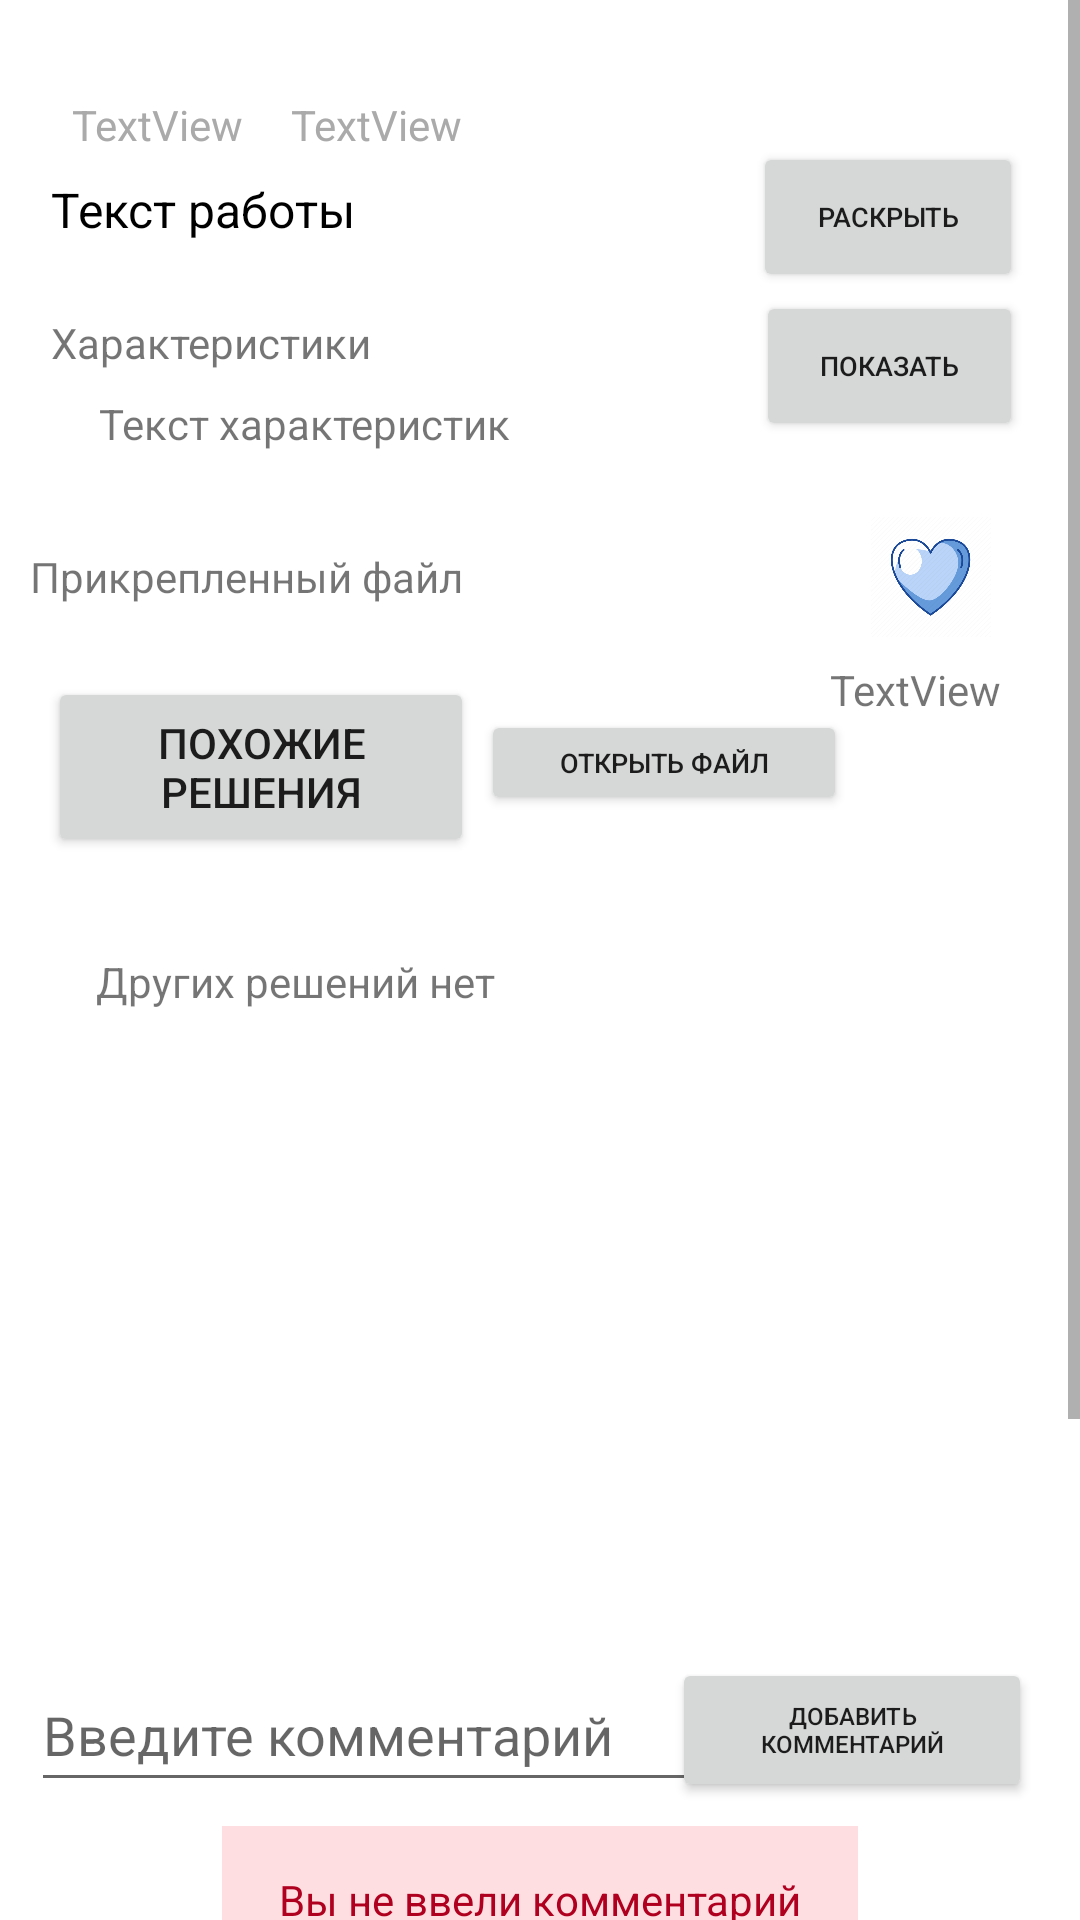

Icon click points for this 1080x1920 phone screenshot, format point (x, y):
heart: point (931, 577)
